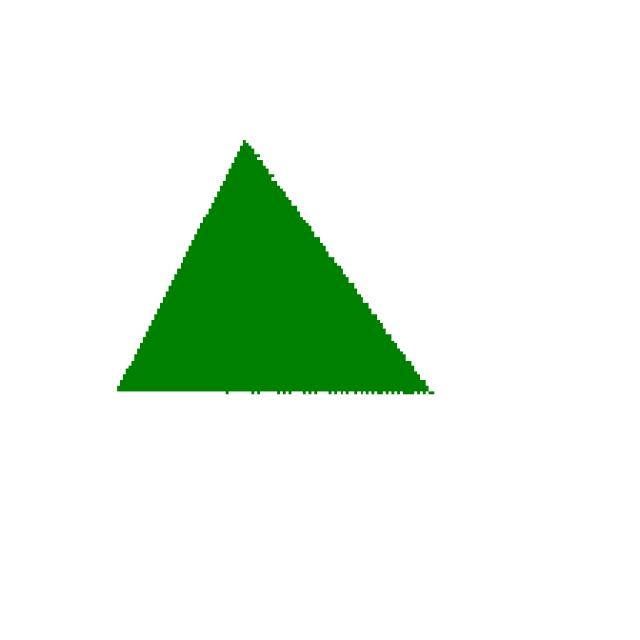Triangle: (48, 103, 483, 510)
